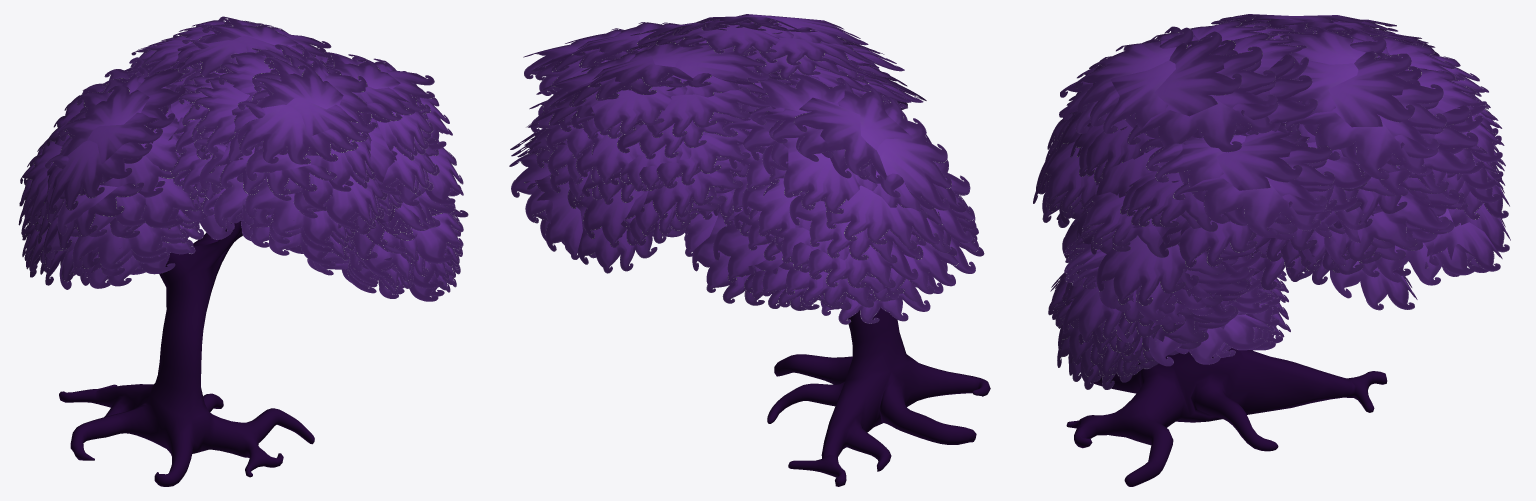
The model's file is Tree03_2.fbx.
3 views of the same model, side by side, from view 1: azimuth 30°, elevation 25°; view 2: azimuth 150°, elevation 25°; view 3: azimuth 270°, elevation 25° (orthographic). The views are drawn at different scales.
Visible parts, largest first — view 1: Cube.001, Circle.076, Circle.378, Circle.367, Circle.080, Circle.407, Circle.098, Circle.077, Circle.030, Circle.078, Circle.163, Circle.063 (+54 smaller); view 2: Cube.001, Circle.367, Circle.371, Circle.172, Circle.378, Circle.451, Circle.431, Circle.164, Circle.450, Circle.165, Circle.168, Circle.468 (+51 smaller); view 3: Cube.001, Circle.030, Circle.080, Circle.454, Circle.052, Circle.018, Circle.427, Circle.461, Circle.068, Circle.034, Circle.426, Circle.076 (+59 smaller).
Part boxes in pixels (left/top/right/bottom): Cube.001: left=59, top=221, right=314, bottom=486; Circle.076: left=228, top=100, right=358, bottom=164; Circle.378: left=57, top=84, right=183, bottom=187; Circle.367: left=44, top=128, right=155, bottom=213; Circle.080: left=252, top=65, right=374, bottom=186; Circle.407: left=72, top=209, right=194, bottom=269; Circle.098: left=237, top=172, right=355, bottom=246; Circle.077: left=194, top=77, right=262, bottom=162; Circle.030: left=325, top=59, right=433, bottom=155; Circle.078: left=200, top=141, right=336, bottom=194; Circle.163: left=45, top=154, right=146, bottom=236; Circle.063: left=237, top=101, right=332, bottom=210; Cube.001: left=767, top=307, right=990, bottom=486; Circle.367: left=872, top=95, right=951, bottom=218; Circle.371: left=804, top=185, right=943, bottom=249; Circle.172: left=752, top=96, right=860, bottom=213; Circle.378: left=793, top=88, right=886, bottom=180; Circle.451: left=629, top=81, right=772, bottom=137; Circle.431: left=554, top=86, right=671, bottom=135; Circle.164: left=789, top=191, right=922, bottom=263; Circle.450: left=675, top=40, right=769, bottom=97; Circle.165: left=808, top=241, right=923, bottom=288; Circle.168: left=741, top=74, right=853, bottom=196; Circle.468: left=640, top=159, right=749, bottom=219; Cube.001: left=1066, top=348, right=1387, bottom=486; Circle.030: left=1124, top=122, right=1307, bottom=231; Circle.080: left=1077, top=31, right=1241, bottom=179; Circle.454: left=1298, top=51, right=1420, bottom=163; Circle.052: left=1091, top=235, right=1255, bottom=305; Circle.018: left=1171, top=177, right=1360, bottom=238; Circle.427: left=1284, top=111, right=1469, bottom=179; Circle.461: left=1298, top=173, right=1459, bottom=270; Circle.068: left=1120, top=100, right=1274, bottom=152; Circle.034: left=1159, top=160, right=1332, bottom=267; Circle.426: left=1333, top=105, right=1478, bottom=228; Circle.076: left=1075, top=35, right=1199, bottom=127.
Bounding box in the file's own units: 10.44 × 8.85 × 8.67.
2 materials, 1 textured.
